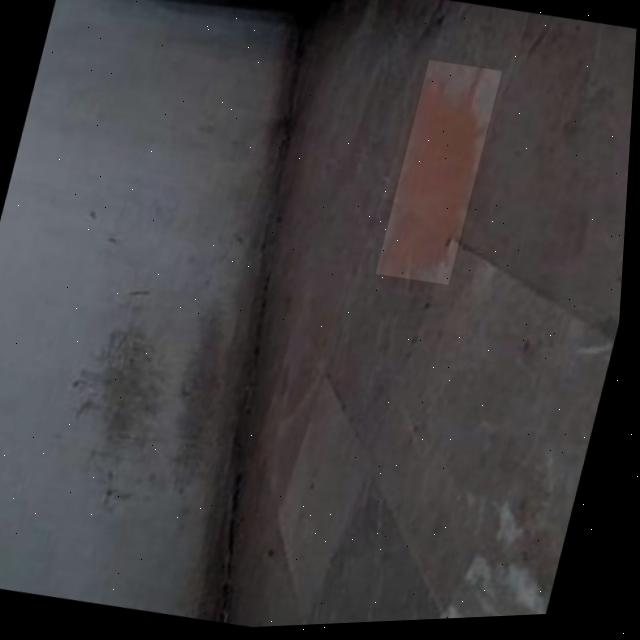spillage: (388, 71, 483, 280)
